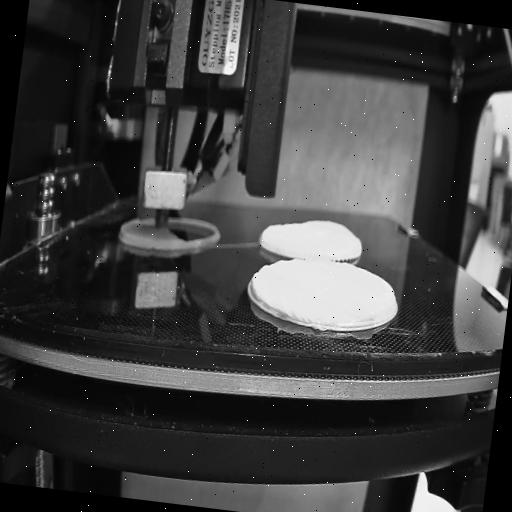over_extrusion: (248, 268, 270, 306)
